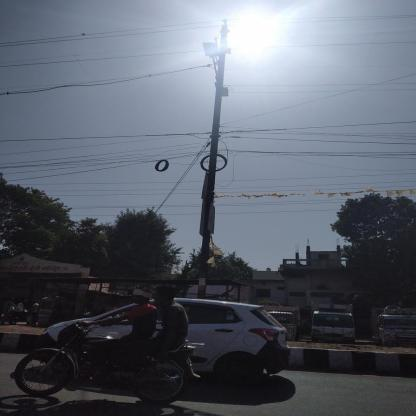Electrical Pole: (179, 16, 250, 300)
